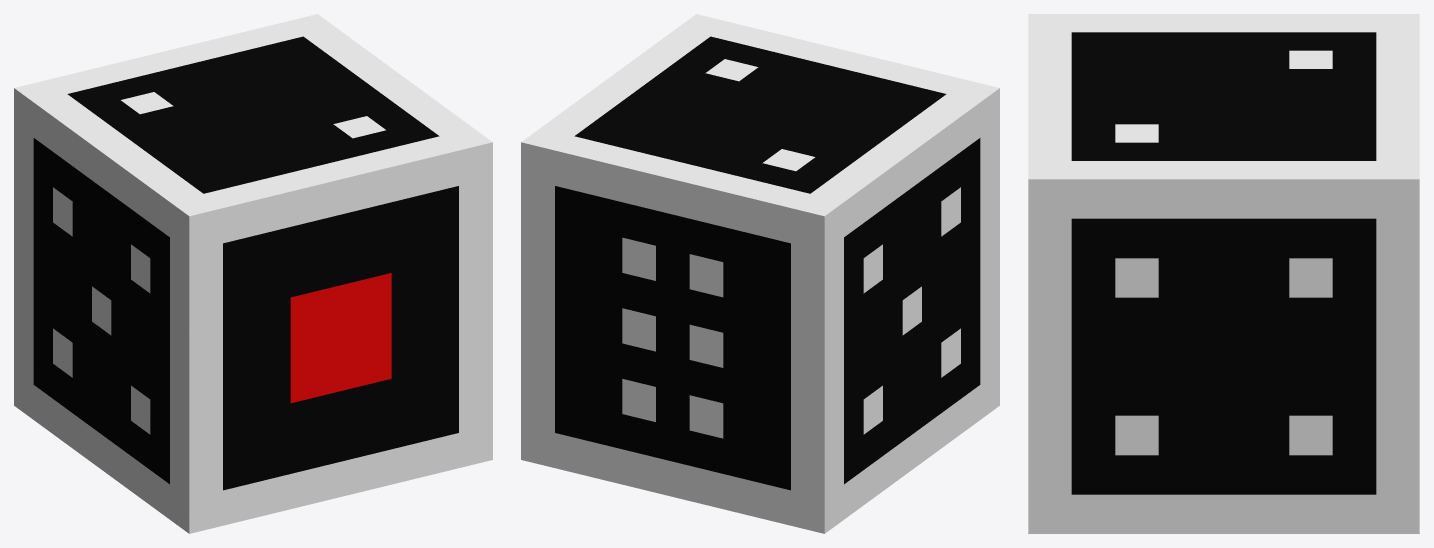
The model's file is NumberCube.fbx.
3 views of the same model, side by side, from view 1: azimuth 30°, elevation 25°; view 2: azimuth 150°, elevation 25°; view 3: azimuth 270°, elevation 25° (orthographic). The views are drawn at different scales.
Parts seen in each view (by area): view 1: imagetostl_mesh0; view 2: imagetostl_mesh0; view 3: imagetostl_mesh0.
Boxes of the visible parts, x1,y1,x2,y2 form: imagetostl_mesh0: (14, 14, 492, 533); imagetostl_mesh0: (521, 14, 999, 533); imagetostl_mesh0: (1028, 14, 1419, 533).
Size of the model in its own units: 4050 by 4050 by 4050.
